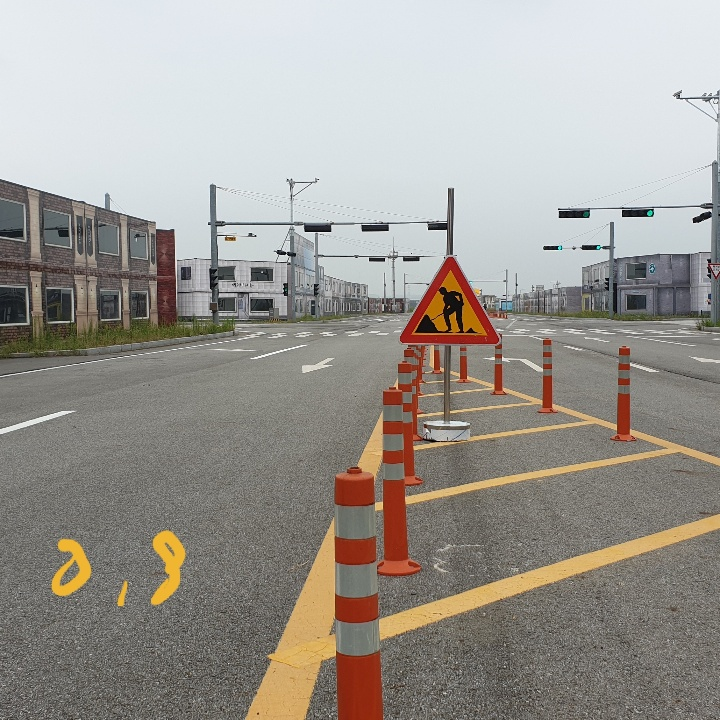const: (410, 278, 484, 337)
